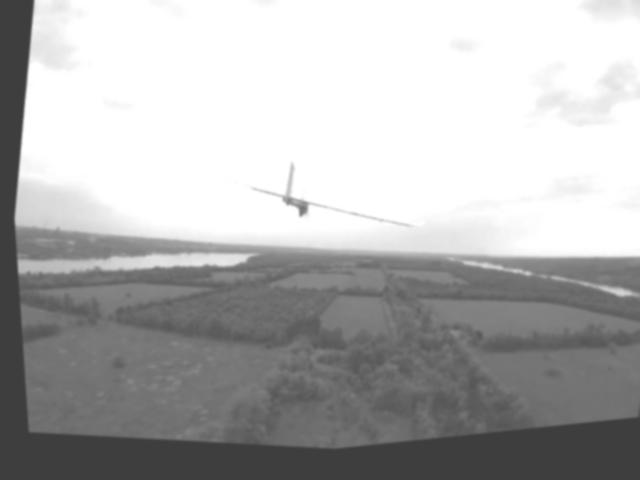hedef: (164, 124, 418, 275)
